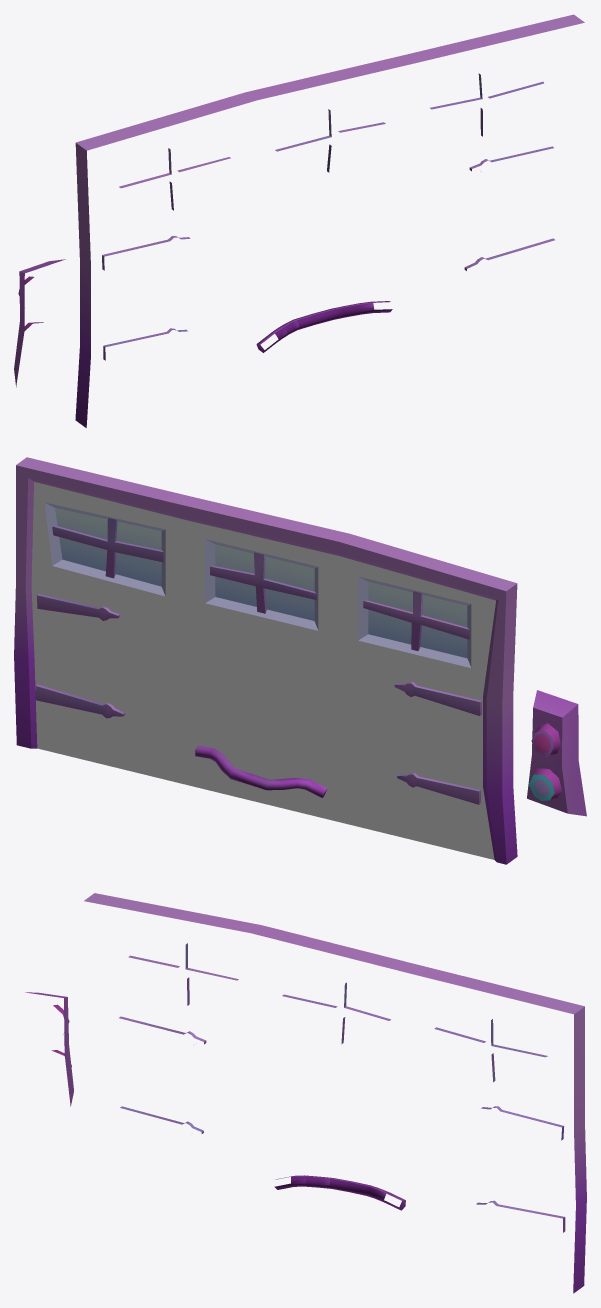
Rendered from prop-sliding_door.glb.
3 views of the same model, one above another, from view 1: azimuth 30°, elevation 25°; view 2: azimuth 150°, elevation 25°; view 3: azimuth 330°, elevation 25° (orthographic).
Parts seen in each view (by area): view 1: prop-sliding_door; view 2: prop-sliding_door; view 3: prop-sliding_door.
Boxes of the visible parts, x1=… form: prop-sliding_door: x1=14, y1=14, x2=584, y2=427; prop-sliding_door: x1=14, y1=457, x2=586, y2=864; prop-sliding_door: x1=25, y1=893, x2=586, y2=1293.
Size of the model in its own units: 9.04 by 4.33 by 0.6605.
